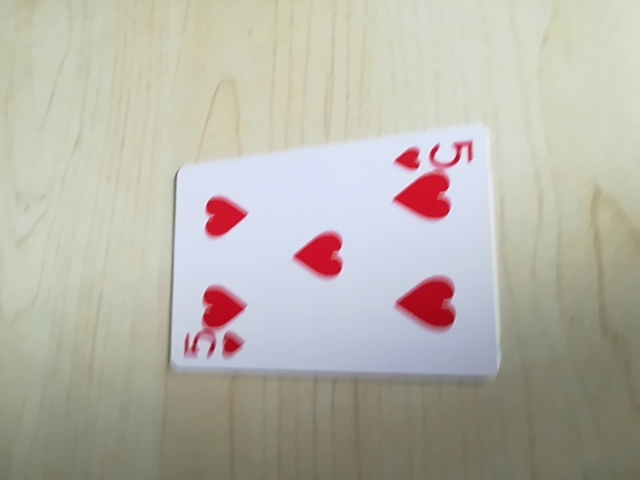hx 5: (390, 131, 477, 173), (178, 327, 245, 367)
